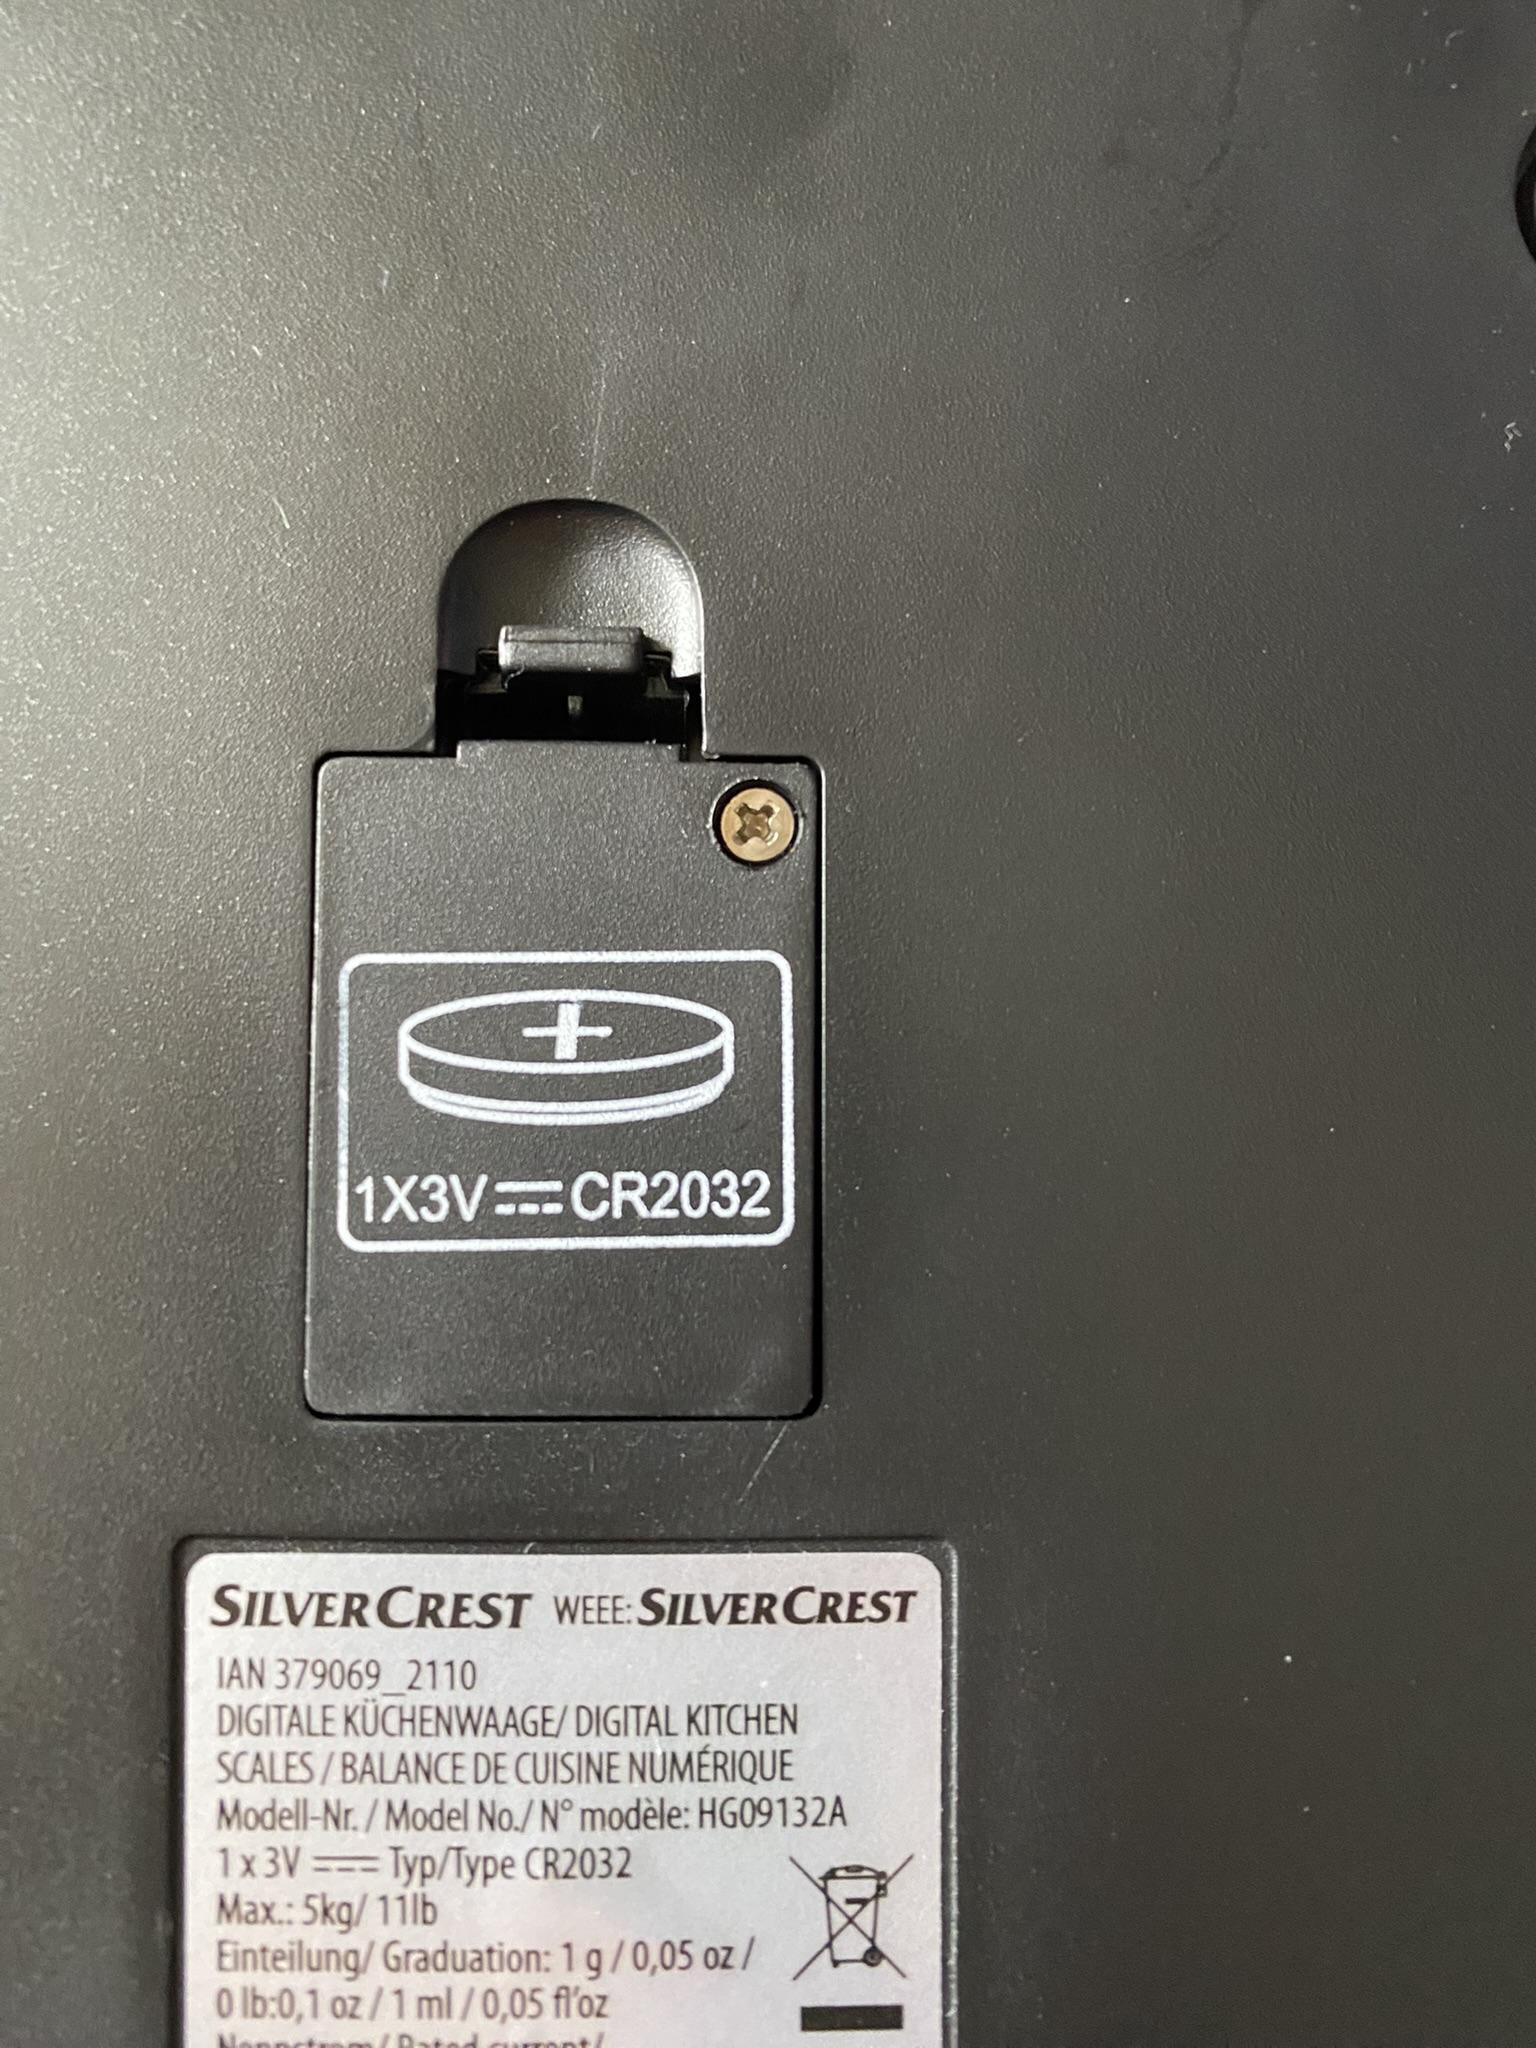PH: (712, 784, 795, 868)
